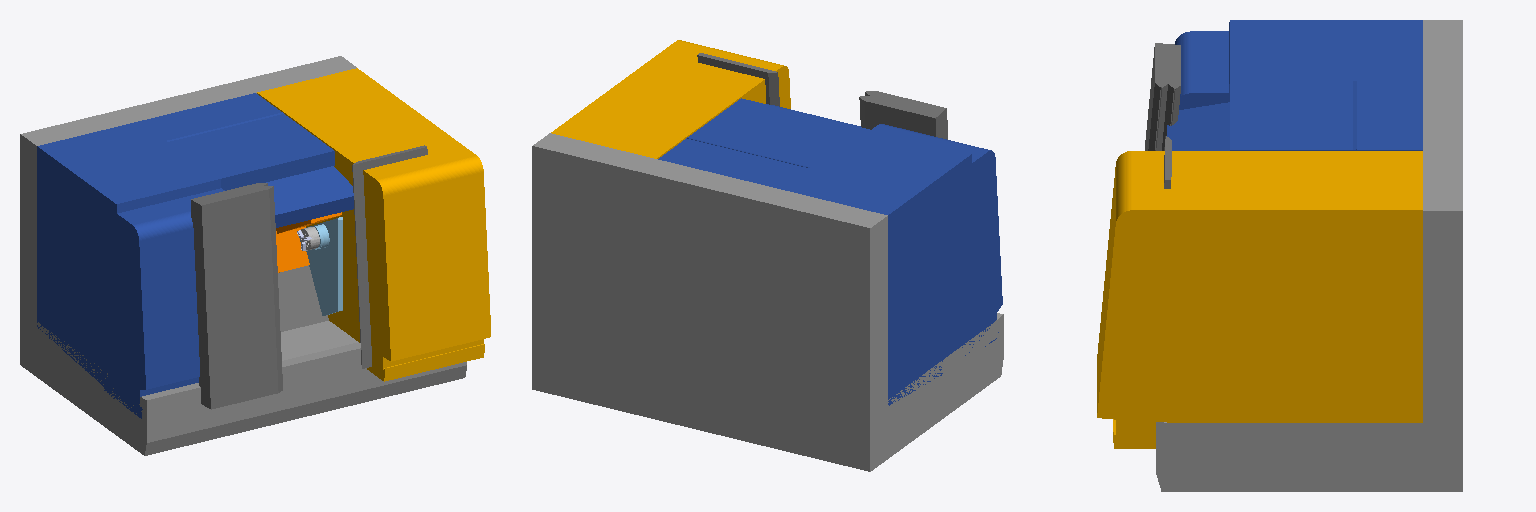
--- Facts derived from the render (not from the file) ---
The picture shows the robot from 3 angles, left to right: view 1: azimuth 30°, elevation 25°; view 2: azimuth 150°, elevation 25°; view 3: azimuth 270°, elevation 25°; orthographic projection.
Robot: cnc — 4 links, 3 joints (3 fixed); root link assembly_1; default pose: all joints at 0.
Visible links, largest first — view 1: assembly_1; view 2: assembly_1; view 3: assembly_1.
Boxes of the visible links, left/top/right/bottom form: assembly_1: left=20, top=56, right=490, bottom=455; assembly_1: left=532, top=40, right=1003, bottom=471; assembly_1: left=1097, top=20, right=1462, bottom=491.
Bounding box of the posed robot: 2.79 × 2.27 × 1.99 m (x, y, z).
34 mesh visuals loaded from 20 distinct referenced files (16 binary STL); not drawn: 4 (reference not matched to a file when rendering).

The robot description file, URDF, robot "cnc":
<?xml version="1.0"?>
<robot name="cnc">
<link name="assembly_1">
<visual>
<origin xyz="-0.48300000000000470335 0.54284609690826468587 1.1800000000000010481" rpy="-1.570796326794896558 -9.4368957093138207328e-16 1.5707963267948974462" />
<geometry>
<mesh filename="package://cnc_machine_gazebo/models/cnc2/part_4.stl"/>
</geometry>
<material name="part_4_material">
<color rgba="0.91764705882352937127 0.91764705882352937127 0.91764705882352937127 1.0"/>
</material>
</visual>
<collision>
<origin xyz="-0.48300000000000470335 0.54284609690826468587 1.1800000000000010481" rpy="-1.570796326794896558 -9.4368957093138207328e-16 1.5707963267948974462" />
<geometry>
<mesh filename="package://cnc_machine_gazebo/models/cnc2/part_4.stl"/>
</geometry>
</collision>
<visual>
<origin xyz="-1.095394477880906603 0.38711564060248060404 1.8688810592265270305" rpy="-2.6111752560385697031 1.4835298641951810694 -1.5707963267948958919" />
<geometry>
<mesh filename="package://cnc_machine_gazebo/models/cnc2/i1127a000001_02_02_simu.stl"/>
</geometry>
<material name="i1127a000001_02_02_simu_material">
<color rgba="0.49803921568627451677 0.49803921568627451677 0.49803921568627451677 1.0"/>
</material>
</visual>
<collision>
<origin xyz="-1.095394477880906603 0.38711564060248060404 1.8688810592265270305" rpy="-2.6111752560385697031 1.4835298641951810694 -1.5707963267948958919" />
<geometry>
<mesh filename="package://cnc_machine_gazebo/models/cnc2/i1127a000001_02_02_simu.stl"/>
</geometry>
</collision>
<visual>
<origin xyz="-0.31830000000000130411 0.58441531628992116065 1.1560000000000016929" rpy="-2.4822085130842591103e-16 -0.52359877559829848259 -1.57079632679489678" />
<geometry>
<mesh filename="package://cnc_machine_gazebo/models/cnc2/p44.stl"/>
</geometry>
<material name="p44_material">
<color rgba="0.79215686274509800047 0.81960784313725487671 0.93333333333333334814 1.0"/>
</material>
</visual>
<collision>
<origin xyz="-0.31830000000000130411 0.58441531628992116065 1.1560000000000016929" rpy="-2.4822085130842591103e-16 -0.52359877559829848259 -1.57079632679489678" />
<geometry>
<mesh filename="package://cnc_machine_gazebo/models/cnc2/p44.stl"/>
</geometry>
</collision>
<visual>
<origin xyz="-0.48300000000000470335 0.54284609690826468587 1.1800000000000010481" rpy="-1.570796326794896558 -9.4368957093138207328e-16 1.5707963267948974462" />
<geometry>
<mesh filename="package://cnc_machine_gazebo/models/cnc2/y.stl"/>
</geometry>
<material name="y_material">
<color rgba="0.37254901960784314596 0.65490196078431373028 0.23921568627450981448 1.0"/>
</material>
</visual>
<collision>
<origin xyz="-0.48300000000000470335 0.54284609690826468587 1.1800000000000010481" rpy="-1.570796326794896558 -9.4368957093138207328e-16 1.5707963267948974462" />
<geometry>
<mesh filename="package://cnc_machine_gazebo/models/cnc2/y.stl"/>
</geometry>
</collision>
<visual>
<origin xyz="-0.31830000000000130411 0.54284609690826479689 1.2280000000000022009" rpy="1.5707963267948956698 1.5707963267948956698 0" />
<geometry>
<mesh filename="package://cnc_machine_gazebo/models/cnc2/p44.stl"/>
</geometry>
<material name="p44_material">
<color rgba="0.79215686274509800047 0.81960784313725487671 0.93333333333333334814 1.0"/>
</material>
</visual>
<collision>
<origin xyz="-0.31830000000000130411 0.54284609690826479689 1.2280000000000022009" rpy="1.5707963267948956698 1.5707963267948956698 0" />
<geometry>
<mesh filename="package://cnc_machine_gazebo/models/cnc2/p44.stl"/>
</geometry>
</collision>
<visual>
<origin xyz="-0.40500000000000074829 0.54284609690826490791 1.1800000000000010481" rpy="1.5707963267948974462 -5.870234470492286122e-31 7.5633943552588670987e-16" />
<geometry>
<mesh filename="package://cnc_machine_gazebo/models/cnc2/i1127a403012_01_simu.stl"/>
</geometry>
<material name="i1127a403012_01_simu_material">
<color rgba="0.64705882352941179736 0.64705882352941179736 0.64705882352941179736 1.0"/>
</material>
</visual>
<collision>
<origin xyz="-0.40500000000000074829 0.54284609690826490791 1.1800000000000010481" rpy="1.5707963267948974462 -5.870234470492286122e-31 7.5633943552588670987e-16" />
<geometry>
<mesh filename="package://cnc_machine_gazebo/models/cnc2/i1127a403012_01_simu.stl"/>
</geometry>
</collision>
<visual>
<origin xyz="0.3150999999999999357 0.55886756687827754408 1.1892500000000005844" rpy="-3.1415926535897900074 0.52359877559829259841 -1.570796326794896336" />
<geometry>
<mesh filename="package://cnc_machine_gazebo/models/cnc2/p31.stl"/>
</geometry>
<material name="p31_material">
<color rgba="0.79215686274509800047 0.81960784313725487671 0.93333333333333334814 1.0"/>
</material>
</visual>
<collision>
<origin xyz="0.3150999999999999357 0.55886756687827754408 1.1892500000000005844" rpy="-3.1415926535897900074 0.52359877559829259841 -1.570796326794896336" />
<geometry>
<mesh filename="package://cnc_machine_gazebo/models/cnc2/p31.stl"/>
</geometry>
</collision>
<visual>
<origin xyz="-0.40500000000000074829 0.54284609690826490791 1.1800000000000010481" rpy="1.5707963267948974462 -5.870234470492286122e-31 7.5633943552588670987e-16" />
<geometry>
<mesh filename="package://cnc_machine_gazebo/models/cnc2/i1127a000001_10_01_simu.stl"/>
</geometry>
<material name="i1127a000001_10_01_simu_material">
<color rgba="0.98039215686274505668 0.71372549019607844922 0.0039215686274509803377 1.0"/>
</material>
</visual>
<collision>
<origin xyz="-0.40500000000000074829 0.54284609690826490791 1.1800000000000010481" rpy="1.5707963267948974462 -5.870234470492286122e-31 7.5633943552588670987e-16" />
<geometry>
<mesh filename="package://cnc_machine_gazebo/models/cnc2/i1127a000001_10_01_simu.stl"/>
</geometry>
</collision>
<visual>
<origin xyz="-1.0953944778809054927 -0.4468021178421056061 0.45347573627781218031" rpy="0.53041739755122307987 -1.4835298641951810694 1.5707963267948972241" />
<geometry>
<mesh filename="package://cnc_machine_gazebo/models/cnc2/i1127a000001_02_02_simu.stl"/>
</geometry>
<material name="i1127a000001_02_02_simu_material">
<color rgba="0.49803921568627451677 0.49803921568627451677 0.49803921568627451677 1.0"/>
</material>
</visual>
<collision>
<origin xyz="-1.0953944778809054927 -0.4468021178421056061 0.45347573627781218031" rpy="0.53041739755122307987 -1.4835298641951810694 1.5707963267948972241" />
<geometry>
<mesh filename="package://cnc_machine_gazebo/models/cnc2/i1127a000001_02_02_simu.stl"/>
</geometry>
</collision>
<visual>
<origin xyz="-0.39300000000000084865 0.54284609690826490791 1.180000000000000826" rpy="1.5707963267948974462 -5.870234470492286122e-31 7.5633943552588670987e-16" />
<geometry>
<mesh filename="package://cnc_machine_gazebo/models/cnc2/130_z1_cover.stl"/>
</geometry>
<material name="130_z1_cover_material">
<color rgba="0.98039215686274505668 0.71372549019607844922 0.0039215686274509803377 1.0"/>
</material>
</visual>
<collision>
<origin xyz="-0.39300000000000084865 0.54284609690826490791 1.180000000000000826" rpy="1.5707963267948974462 -5.870234470492286122e-31 7.5633943552588670987e-16" />
<geometry>
<mesh filename="package://cnc_machine_gazebo/models/cnc2/130_z1_cover.stl"/>
</geometry>
</collision>
<visual>
<origin xyz="0.31449999999999994627 0.54284609690826557404 1.1609000000000009312" rpy="1.5707963267948970021 -1.5707963267948958919 0" />
<geometry>
<mesh filename="package://cnc_machine_gazebo/models/cnc2/p31.stl"/>
</geometry>
<material name="p31_material">
<color rgba="0.79215686274509800047 0.81960784313725487671 0.93333333333333334814 1.0"/>
</material>
</visual>
<collision>
<origin xyz="0.31449999999999994627 0.54284609690826557404 1.1609000000000009312" rpy="1.5707963267948970021 -1.5707963267948958919 0" />
<geometry>
<mesh filename="package://cnc_machine_gazebo/models/cnc2/p31.stl"/>
</geometry>
</collision>
<visual>
<origin xyz="-0.40500000000000047073 0.24284609690826441941 1.1800000000000010481" rpy="1.5707963267948974462 -4.9303806576313159015e-31 7.563394355258870057e-16" />
<geometry>
<mesh filename="package://cnc_machine_gazebo/models/cnc2/i1127a000001_10_01_simu.stl"/>
</geometry>
<material name="i1127a000001_10_01_simu_material">
<color rgba="0.98039215686274505668 0.71372549019607844922 0.0039215686274509803377 1.0"/>
</material>
</visual>
<collision>
<origin xyz="-0.40500000000000047073 0.24284609690826441941 1.1800000000000010481" rpy="1.5707963267948974462 -4.9303806576313159015e-31 7.563394355258870057e-16" />
<geometry>
<mesh filename="package://cnc_machine_gazebo/models/cnc2/i1127a000001_10_01_simu.stl"/>
</geometry>
</collision>
<visual>
<origin xyz="-0.38530000000000286242 0.54284609690826524098 1.180000000000000826" rpy="1.5707963267948972241 -6.2881612684244073865e-31 1.4502288259166164502e-15" />
<geometry>
<mesh filename="package://cnc_machine_gazebo/models/cnc2/202_left_cover.stl"/>
</geometry>
<material name="202_left_cover_material">
<color rgba="0.64705882352941179736 0.64705882352941179736 0.64705882352941179736 1.0"/>
</material>
</visual>
<collision>
<origin xyz="-0.38530000000000286242 0.54284609690826524098 1.180000000000000826" rpy="1.5707963267948972241 -6.2881612684244073865e-31 1.4502288259166164502e-15" />
<geometry>
<mesh filename="package://cnc_machine_gazebo/models/cnc2/202_left_cover.stl"/>
</geometry>
</collision>
<visual>
<origin xyz="-0.48300000000000470335 0.54284609690826468587 1.1800000000000010481" rpy="-1.570796326794896558 -9.4368957093138207328e-16 1.5707963267948974462" />
<geometry>
<mesh filename="package://cnc_machine_gazebo/models/cnc2/x.stl"/>
</geometry>
<material name="x_material">
<color rgba="1 0 0 1.0"/>
</material>
</visual>
<collision>
<origin xyz="-0.48300000000000470335 0.54284609690826468587 1.1800000000000010481" rpy="-1.570796326794896558 -9.4368957093138207328e-16 1.5707963267948974462" />
<geometry>
<mesh filename="package://cnc_machine_gazebo/models/cnc2/x.stl"/>
</geometry>
</collision>
<visual>
<origin xyz="-0.40500000000000074829 0.54284609690826490791 1.1800000000000010481" rpy="1.5707963267948974462 -5.870234470492286122e-31 7.5633943552588670987e-16" />
<geometry>
<mesh filename="package://cnc_machine_gazebo/models/cnc2/i1127a000001_02_02_simu.stl"/>
</geometry>
<material name="i1127a000001_02_02_simu_material">
<color rgba="0.49803921568627451677 0.49803921568627451677 0.49803921568627451677 1.0"/>
</material>
</visual>
<collision>
<origin xyz="-0.40500000000000074829 0.54284609690826490791 1.1800000000000010481" rpy="1.5707963267948974462 -5.870234470492286122e-31 7.5633943552588670987e-16" />
<geometry>
<mesh filename="package://cnc_machine_gazebo/models/cnc2/i1127a000001_02_02_simu.stl"/>
</geometry>
</collision>
<visual>
<origin xyz="0.31450000000000000178 0.52630501169598298272 1.1895500000000012175" rpy="-2.1374984985046498593e-15 0.52359877559829814953 1.5707963267948970021" />
<geometry>
<mesh filename="package://cnc_machine_gazebo/models/cnc2/p31.stl"/>
</geometry>
<material name="p31_material">
<color rgba="0.79215686274509800047 0.81960784313725487671 0.93333333333333334814 1.0"/>
</material>
</visual>
<collision>
<origin xyz="0.31450000000000000178 0.52630501169598298272 1.1895500000000012175" rpy="-2.1374984985046498593e-15 0.52359877559829814953 1.5707963267948970021" />
<geometry>
<mesh filename="package://cnc_machine_gazebo/models/cnc2/p31.stl"/>
</geometry>
</collision>
<visual>
<origin xyz="-0.40500000000000074829 0.54284609690826490791 1.1800000000000010481" rpy="1.5707963267948974462 -5.870234470492286122e-31 7.5633943552588670987e-16" />
<geometry>
<mesh filename="package://cnc_machine_gazebo/models/cnc2/i1127a000001_33_04_simu.stl"/>
</geometry>
<material name="i1127a000001_33_04_simu_material">
<color rgba="0.76862745098039220171 0.88627450980392152857 0.95294117647058818044 1.0"/>
</material>
</visual>
<collision>
<origin xyz="-0.40500000000000074829 0.54284609690826490791 1.1800000000000010481" rpy="1.5707963267948974462 -5.870234470492286122e-31 7.5633943552588670987e-16" />
<geometry>
<mesh filename="package://cnc_machine_gazebo/models/cnc2/i1127a000001_33_04_simu.stl"/>
</geometry>
</collision>
<visual>
<origin xyz="0.31399999999999994582 0.54284609690826557404 1.1800000000000010481" rpy="-1.5707963267948976682 6.9025329206838427876e-31 -3.1415926535897926719" />
<geometry>
<mesh filename="package://cnc_machine_gazebo/models/cnc2/b_206.stl"/>
</geometry>
<material name="b_206_material">
<color rgba="0.75294117647058822484 0.75294117647058822484 0.75294117647058822484 1.0"/>
</material>
</visual>
<collision>
<origin xyz="0.31399999999999994582 0.54284609690826557404 1.1800000000000010481" rpy="-1.5707963267948976682 6.9025329206838427876e-31 -3.1415926535897926719" />
<geometry>
<mesh filename="package://cnc_machine_gazebo/models/cnc2/b_206.stl"/>
</geometry>
</collision>
<visual>
<origin xyz="-0.46000000000000068612 0.54284609690826446382 1.180000000000000826" rpy="1.5707963267948974462 -5.870234470492286122e-31 7.5633943552588670987e-16" />
<geometry>
<mesh filename="package://cnc_machine_gazebo/models/cnc2/150_z3_cover.stl"/>
</geometry>
<material name="150_z3_cover_material">
<color rgba="0.49803921568627451677 0.49803921568627451677 0.49803921568627451677 1.0"/>
</material>
</visual>
<collision>
<origin xyz="-0.46000000000000068612 0.54284609690826446382 1.180000000000000826" rpy="1.5707963267948974462 -5.870234470492286122e-31 7.5633943552588670987e-16" />
<geometry>
<mesh filename="package://cnc_machine_gazebo/models/cnc2/150_z3_cover.stl"/>
</geometry>
</collision>
<visual>
<origin xyz="-0.30480000000000129212 0.52630501169598009614 1.1704499999999999904" rpy="3.1415926535897908956 -0.52359877559828693627 1.570796326794896558" />
<geometry>
<mesh filename="package://cnc_machine_gazebo/models/cnc2/p31.stl"/>
</geometry>
<material name="p31_material">
<color rgba="0.79215686274509800047 0.81960784313725487671 0.93333333333333334814 1.0"/>
</material>
</visual>
<collision>
<origin xyz="-0.30480000000000129212 0.52630501169598009614 1.1704499999999999904" rpy="3.1415926535897908956 -0.52359877559828693627 1.570796326794896558" />
<geometry>
<mesh filename="package://cnc_machine_gazebo/models/cnc2/p31.stl"/>
</geometry>
</collision>
<visual>
<origin xyz="-1.0953944778809061589 -0.52874975322159656344 0.46064522537628782572" rpy="0.53041739755122185862 -1.4835298641951810694 1.5707963267948972241" />
<geometry>
<mesh filename="package://cnc_machine_gazebo/models/cnc2/i1127a000001_02_02_simu.stl"/>
</geometry>
<material name="i1127a000001_02_02_simu_material">
<color rgba="0.49803921568627451677 0.49803921568627451677 0.49803921568627451677 1.0"/>
</material>
</visual>
<collision>
<origin xyz="-1.0953944778809061589 -0.52874975322159656344 0.46064522537628782572" rpy="0.53041739755122185862 -1.4835298641951810694 1.5707963267948972241" />
<geometry>
<mesh filename="package://cnc_machine_gazebo/models/cnc2/i1127a000001_02_02_simu.stl"/>
</geometry>
</collision>
<visual>
<origin xyz="-0.40800000000000080647 0.54284609690826490791 1.1800000000000010481" rpy="1.5707963267948970021 -1.4332770646129816225e-30 7.5633943552588670987e-16" />
<geometry>
<mesh filename="package://cnc_machine_gazebo/models/cnc2/i1127a000001_10_02_simu.stl"/>
</geometry>
<material name="i1127a000001_10_02_simu_material">
<color rgba="0.2313725490196078538 0.38039215686274507888 0.7058823529411765163 1.0"/>
</material>
</visual>
<collision>
<origin xyz="-0.40800000000000080647 0.54284609690826490791 1.1800000000000010481" rpy="1.5707963267948970021 -1.4332770646129816225e-30 7.5633943552588670987e-16" />
<geometry>
<mesh filename="package://cnc_machine_gazebo/models/cnc2/i1127a000001_10_02_simu.stl"/>
</geometry>
</collision>
<visual>
<origin xyz="-1.0953944778809074911 0.46906327598196490003 1.8617115701280422257" rpy="-2.6111752560385736999 1.4835298641951810694 -1.5707963267948958919" />
<geometry>
<mesh filename="package://cnc_machine_gazebo/models/cnc2/i1127a000001_02_02_simu.stl"/>
</geometry>
<material name="i1127a000001_02_02_simu_material">
<color rgba="0.49803921568627451677 0.49803921568627451677 0.49803921568627451677 1.0"/>
</material>
</visual>
<collision>
<origin xyz="-1.0953944778809074911 0.46906327598196490003 1.8617115701280422257" rpy="-2.6111752560385736999 1.4835298641951810694 -1.5707963267948958919" />
<geometry>
<mesh filename="package://cnc_machine_gazebo/models/cnc2/i1127a000001_02_02_simu.stl"/>
</geometry>
</collision>
<visual>
<origin xyz="-0.42499999999999776845 0.27810189015594621864 1.011019208927543378" rpy="1.7453292519943310879 -1.1073305128774073233e-15 6.3213253763475303784e-16" />
<geometry>
<mesh filename="package://cnc_machine_gazebo/models/cnc2/i1127a000001_10_04_simu.stl"/>
</geometry>
<material name="i1127a000001_10_04_simu_material">
<color rgba="0.2313725490196078538 0.38039215686274507888 0.7058823529411765163 1.0"/>
</material>
</visual>
<collision>
<origin xyz="-0.42499999999999776845 0.27810189015594621864 1.011019208927543378" rpy="1.7453292519943310879 -1.1073305128774073233e-15 6.3213253763475303784e-16" />
<geometry>
<mesh filename="package://cnc_machine_gazebo/models/cnc2/i1127a000001_10_04_simu.stl"/>
</geometry>
</collision>
<visual>
<origin xyz="-0.30540000000000139257 0.55886756687827987555 1.1707500000000021778" rpy="3.3470442036297415902e-15 -0.52359877559830236837 -1.57079632679489678" />
<geometry>
<mesh filename="package://cnc_machine_gazebo/models/cnc2/p31.stl"/>
</geometry>
<material name="p31_material">
<color rgba="0.79215686274509800047 0.81960784313725487671 0.93333333333333334814 1.0"/>
</material>
</visual>
<collision>
<origin xyz="-0.30540000000000139257 0.55886756687827987555 1.1707500000000021778" rpy="3.3470442036297415902e-15 -0.52359877559830236837 -1.57079632679489678" />
<geometry>
<mesh filename="package://cnc_machine_gazebo/models/cnc2/p31.stl"/>
</geometry>
</collision>
<visual>
<origin xyz="-0.42500000000000082157 0.54284609690826512995 1.1830000000000009397" rpy="1.5707963267948974462 -5.7893454128280265952e-31 7.9797279894933017875e-16" />
<geometry>
<mesh filename="package://cnc_machine_gazebo/models/cnc2/i1127a000001_10_04_simu.stl"/>
</geometry>
<material name="i1127a000001_10_04_simu_material">
<color rgba="0.2313725490196078538 0.38039215686274507888 0.7058823529411765163 1.0"/>
</material>
</visual>
<collision>
<origin xyz="-0.42500000000000082157 0.54284609690826512995 1.1830000000000009397" rpy="1.5707963267948974462 -5.7893454128280265952e-31 7.9797279894933017875e-16" />
<geometry>
<mesh filename="package://cnc_machine_gazebo/models/cnc2/i1127a000001_10_04_simu.stl"/>
</geometry>
</collision>
<visual>
<origin xyz="0.32800000000000001377 0.50127687752661242993 1.2040000000000012914" rpy="8.3291900020099585808e-16 0.52359877559829659521 1.5707963267948970021" />
<geometry>
<mesh filename="package://cnc_machine_gazebo/models/cnc2/p44.stl"/>
</geometry>
<material name="p44_material">
<color rgba="0.79215686274509800047 0.81960784313725487671 0.93333333333333334814 1.0"/>
</material>
</visual>
<collision>
<origin xyz="0.32800000000000001377 0.50127687752661242993 1.2040000000000012914" rpy="8.3291900020099585808e-16 0.52359877559829659521 1.5707963267948970021" />
<geometry>
<mesh filename="package://cnc_machine_gazebo/models/cnc2/p44.stl"/>
</geometry>
</collision>
<visual>
<origin xyz="0.32799999999999995826 0.54284609690826557404 1.1320000000000010054" rpy="1.5707963267948970021 -1.5707963267948958919 0" />
<geometry>
<mesh filename="package://cnc_machine_gazebo/models/cnc2/p44.stl"/>
</geometry>
<material name="p44_material">
<color rgba="0.79215686274509800047 0.81960784313725487671 0.93333333333333334814 1.0"/>
</material>
</visual>
<collision>
<origin xyz="0.32799999999999995826 0.54284609690826557404 1.1320000000000010054" rpy="1.5707963267948970021 -1.5707963267948958919 0" />
<geometry>
<mesh filename="package://cnc_machine_gazebo/models/cnc2/p44.stl"/>
</geometry>
</collision>
<visual>
<origin xyz="-0.48300000000000470335 0.54284609690826468587 1.1800000000000010481" rpy="-1.570796326794896558 -9.4368957093138207328e-16 1.5707963267948974462" />
<geometry>
<mesh filename="package://cnc_machine_gazebo/models/cnc2/z.stl"/>
</geometry>
<material name="z_material">
<color rgba="0.2313725490196078538 0.38039215686274507888 0.7058823529411765163 1.0"/>
</material>
</visual>
<collision>
<origin xyz="-0.48300000000000470335 0.54284609690826468587 1.1800000000000010481" rpy="-1.570796326794896558 -9.4368957093138207328e-16 1.5707963267948974462" />
<geometry>
<mesh filename="package://cnc_machine_gazebo/models/cnc2/z.stl"/>
</geometry>
</collision>
<visual>
<origin xyz="-0.42500000000000109912 0.54284609690826501893 1.1800000000000010481" rpy="1.5707963267948974462 -7.1223427569442694215e-31 7.563394355258870057e-16" />
<geometry>
<mesh filename="package://cnc_machine_gazebo/models/cnc2/i1127a000001_02_01_simu.stl"/>
</geometry>
<material name="i1127a000001_02_01_simu_material">
<color rgba="0.61568627450980395466 0.81176470588235294379 0.92941176470588238168 1.0"/>
</material>
</visual>
<collision>
<origin xyz="-0.42500000000000109912 0.54284609690826501893 1.1800000000000010481" rpy="1.5707963267948974462 -7.1223427569442694215e-31 7.563394355258870057e-16" />
<geometry>
<mesh filename="package://cnc_machine_gazebo/models/cnc2/i1127a000001_02_01_simu.stl"/>
</geometry>
</collision>
<visual>
<origin xyz="-0.30480000000000129212 0.54284609690826490791 1.1991000000000022752" rpy="1.5707963267948956698 1.5707963267948956698 0" />
<geometry>
<mesh filename="package://cnc_machine_gazebo/models/cnc2/p31.stl"/>
</geometry>
<material name="p31_material">
<color rgba="0.79215686274509800047 0.81960784313725487671 0.93333333333333334814 1.0"/>
</material>
</visual>
<collision>
<origin xyz="-0.30480000000000129212 0.54284609690826490791 1.1991000000000022752" rpy="1.5707963267948956698 1.5707963267948956698 0" />
<geometry>
<mesh filename="package://cnc_machine_gazebo/models/cnc2/p31.stl"/>
</geometry>
</collision>
<visual>
<origin xyz="-0.31830000000000130411 0.50127687752660943232 1.1560000000000001386" rpy="-3.1415926535897926719 -0.52359877559828693627 1.570796326794896558" />
<geometry>
<mesh filename="package://cnc_machine_gazebo/models/cnc2/p44.stl"/>
</geometry>
<material name="p44_material">
<color rgba="0.79215686274509800047 0.81960784313725487671 0.93333333333333334814 1.0"/>
</material>
</visual>
<collision>
<origin xyz="-0.31830000000000130411 0.50127687752660943232 1.1560000000000001386" rpy="-3.1415926535897926719 -0.52359877559828693627 1.570796326794896558" />
<geometry>
<mesh filename="package://cnc_machine_gazebo/models/cnc2/p44.stl"/>
</geometry>
</collision>
<visual>
<origin xyz="1.2518696879329613836 0.27714123384170485931 0.39141339284249782038" rpy="-2.617993877991502405 -1.4835322082241053643 1.5707963267948887864" />
<geometry>
<mesh filename="package://cnc_machine_gazebo/models/cnc2/i1127a000001_02_02_simu.stl"/>
</geometry>
<material name="i1127a000001_02_02_simu_material">
<color rgba="0.49803921568627451677 0.49803921568627451677 0.49803921568627451677 1.0"/>
</material>
</visual>
<collision>
<origin xyz="1.2518696879329613836 0.27714123384170485931 0.39141339284249782038" rpy="-2.617993877991502405 -1.4835322082241053643 1.5707963267948887864" />
<geometry>
<mesh filename="package://cnc_machine_gazebo/models/cnc2/i1127a000001_02_02_simu.stl"/>
</geometry>
</collision>
<visual>
<origin xyz="-0.38300000000000078426 0.54284609690826490791 1.180000000000000826" rpy="1.5707963267948974462 -5.870234470492286122e-31 7.5633943552588670987e-16" />
<geometry>
<mesh filename="package://cnc_machine_gazebo/models/cnc2/i1127a000001_33_03_simu.stl"/>
</geometry>
<material name="i1127a000001_33_03_simu_material">
<color rgba="0.97254901960784312376 0.52941176470588235947 0.0039215686274509803377 1.0"/>
</material>
</visual>
<collision>
<origin xyz="-0.38300000000000078426 0.54284609690826490791 1.180000000000000826" rpy="1.5707963267948974462 -5.870234470492286122e-31 7.5633943552588670987e-16" />
<geometry>
<mesh filename="package://cnc_machine_gazebo/models/cnc2/i1127a000001_33_03_simu.stl"/>
</geometry>
</collision>
<visual>
<origin xyz="0.32799999999999990274 0.58441531628991894021 1.2040000000000008473" rpy="3.1415926535897926719 0.52359877559828937876 -1.570796326794896336" />
<geometry>
<mesh filename="package://cnc_machine_gazebo/models/cnc2/p44.stl"/>
</geometry>
<material name="p44_material">
<color rgba="0.79215686274509800047 0.81960784313725487671 0.93333333333333334814 1.0"/>
</material>
</visual>
<collision>
<origin xyz="0.32799999999999990274 0.58441531628991894021 1.2040000000000008473" rpy="3.1415926535897926719 0.52359877559828937876 -1.570796326794896336" />
<geometry>
<mesh filename="package://cnc_machine_gazebo/models/cnc2/p44.stl"/>
</geometry>
</collision>
<visual>
<origin xyz="-0.40500000000000074829 0.54284609690826490791 1.1800000000000010481" rpy="1.5707963267948974462 -5.870234470492286122e-31 7.5633943552588670987e-16" />
<geometry>
<mesh filename="package://cnc_machine_gazebo/models/cnc2/i1127a000001_33_05_simu.stl"/>
</geometry>
<material name="i1127a000001_33_05_simu_material">
<color rgba="0.91764705882352937127 0.91764705882352937127 0.91764705882352937127 1.0"/>
</material>
</visual>
<collision>
<origin xyz="-0.40500000000000074829 0.54284609690826490791 1.1800000000000010481" rpy="1.5707963267948974462 -5.870234470492286122e-31 7.5633943552588670987e-16" />
<geometry>
<mesh filename="package://cnc_machine_gazebo/models/cnc2/i1127a000001_33_05_simu.stl"/>
</geometry>
</collision>
<visual>
<origin xyz="-0.30430000000000095861 0.54284609690826490791 1.1800000000000012701" rpy="1.5707963267948974462 -1.5307291197989789096e-30 1.4432899320127125745e-15" />
<geometry>
<mesh filename="package://cnc_machine_gazebo/models/cnc2/b_206.stl"/>
</geometry>
<material name="b_206_material">
<color rgba="0.75294117647058822484 0.75294117647058822484 0.75294117647058822484 1.0"/>
</material>
</visual>
<collision>
<origin xyz="-0.30430000000000095861 0.54284609690826490791 1.1800000000000012701" rpy="1.5707963267948974462 -1.5307291197989789096e-30 1.4432899320127125745e-15" />
<geometry>
<mesh filename="package://cnc_machine_gazebo/models/cnc2/b_206.stl"/>
</geometry>
</collision>
<visual>
<origin xyz="-0.40500000000000074829 0.54284609690826490791 1.1800000000000010481" rpy="1.5707963267948974462 -5.870234470492286122e-31 7.5633943552588670987e-16" />
<geometry>
<mesh filename="package://cnc_machine_gazebo/models/cnc2/i1127a000001_10_03_simu.stl"/>
</geometry>
<material name="i1127a000001_10_03_simu_material">
<color rgba="0.97254901960784312376 0.52941176470588235947 0.0039215686274509803377 1.0"/>
</material>
</visual>
<collision>
<origin xyz="-0.40500000000000074829 0.54284609690826490791 1.1800000000000010481" rpy="1.5707963267948974462 -5.870234470492286122e-31 7.5633943552588670987e-16" />
<geometry>
<mesh filename="package://cnc_machine_gazebo/models/cnc2/i1127a000001_10_03_simu.stl"/>
</geometry>
</collision>
<inertial>
<origin xyz="0.0048499999999990182908 0.54283536292616818564 1.1800000000000012701" rpy="0 0 0"/>
<mass value="25.457507666087796139" />
<inertia ixx="0.099755000323400205842" ixy="-3.2613207924178655439e-15"  ixz="3.7484600071508673087e-05" iyy="3.0793485211875042395" iyz="-7.4538899358378429838e-18" izz="3.0794994816766640966" />
</inertial>
</link>

<link name="chuck">
<inertial>
<origin xyz="0 0 0" rpy="0 0 0" />
<mass value="1e-9" />
<inertia ixx="0" ixy="0" ixz="0" iyy="0" iyz="0" izz="0" />
</inertial>
</link>
<joint name="chuck_frame" type="fixed">
<origin xyz="-0.3043000000000009031 0.54284609690826501893 1.1800000000000012701" rpy="-1.57079632679489678 9.9920072216263812537e-16 -1.5707963267948958919" />
<parent link="assembly_1" />
<child link="chuck" />
<axis xyz="0 0 0"/>
</joint>

<link name="tag_left">
<inertial>
<origin xyz="0 0 0" rpy="0 0 0" />
<mass value="1e-9" />
<inertia ixx="0" ixy="0" ixz="0" iyy="0" iyz="0" izz="0" />
</inertial>
</link>
<joint name="tag_left_frame" type="fixed">
<origin xyz="-0.46430000000000465343 0.24284609690825320616 1.3300000000000025135" rpy="-1.570796326794896558 9.4368957093137753733e-16 -1.5707963267948956698" />
<parent link="assembly_1" />
<child link="tag_left" />
<axis xyz="0 0 0"/>
</joint>

<link name="tag_right">
<inertial>
<origin xyz="0 0 0" rpy="0 0 0" />
<mass value="1e-9" />
<inertia ixx="0" ixy="0" ixz="0" iyy="0" iyz="0" izz="0" />
</inertial>
</link>
<joint name="tag_right_frame" type="fixed">
<origin xyz="0.51780000000001846772 0.2590660969082549947 1.3923000000000032017" rpy="-1.570796326794896558 7.7715611723760139386e-16 -1.57079632679489678" />
<parent link="assembly_1" />
<child link="tag_right" />
<axis xyz="0 0 0"/>
</joint>


</robot>
